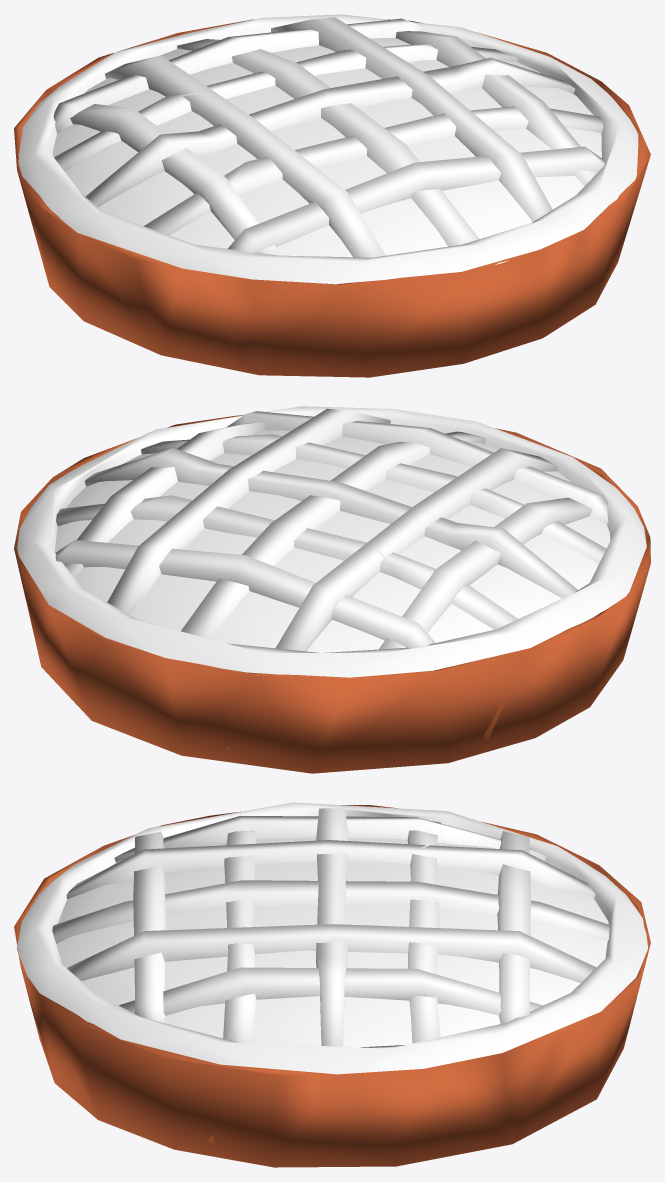
The model's file is pie.glb.
The picture shows the model from 3 angles, top to bottom: view 1: azimuth 30°, elevation 25°; view 2: azimuth 150°, elevation 25°; view 3: azimuth 270°, elevation 25°; orthographic projection.
Parts seen in each view (by area): view 1: Apple pie; view 2: Apple pie; view 3: Apple pie.
Part boxes in pixels (x1,y1,x2,y2): Apple pie: (14,14,650,377); Apple pie: (14,406,650,773); Apple pie: (14,802,650,1167).
Size of the model in its own units: 1.18 by 0.3342 by 1.18.
